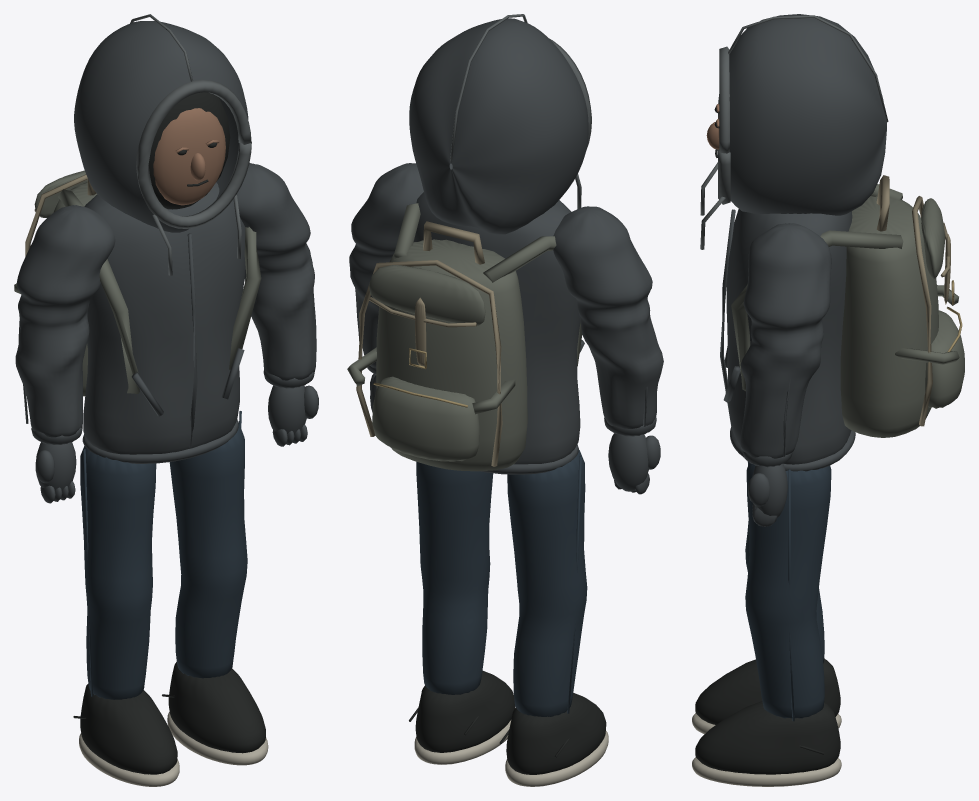
The model's file is player.glb.
The picture shows the model from 3 angles, left to right: view 1: azimuth 30°, elevation 25°; view 2: azimuth 150°, elevation 25°; view 3: azimuth 270°, elevation 25°; orthographic projection. The views are drawn at different scales.
Visible parts, largest first — view 1: Player_Mesh, Head_Mesh, LeftArm_Mesh, LeftLeg_Mesh, RightLeg_Mesh, RightArm_Mesh, Shoe.001_Mesh, Shoe_Mesh, Backpack_Mesh; view 2: Backpack_Mesh, Head_Mesh, LeftArm_Mesh, LeftLeg_Mesh, RightLeg_Mesh, Player_Mesh, Shoe_Mesh, Shoe.001_Mesh, RightArm_Mesh; view 3: Head_Mesh, Backpack_Mesh, RightArm_Mesh, RightLeg_Mesh, Player_Mesh, Shoe.001_Mesh, Shoe_Mesh, LeftLeg_Mesh.
Boxes of the visible parts, x1=… form: Player_Mesh: x1=82, y1=182, x2=245, y2=463; Head_Mesh: x1=74, y1=14, x2=251, y2=275; LeftArm_Mesh: x1=15, y1=205, x2=115, y2=503; LeftLeg_Mesh: x1=80, y1=446, x2=156, y2=699; RightLeg_Mesh: x1=169, y1=411, x2=247, y2=678; RightArm_Mesh: x1=237, y1=163, x2=318, y2=446; Shoe.001_Mesh: x1=162, y1=662, x2=268, y2=765; Shoe_Mesh: x1=73, y1=684, x2=179, y2=786; Backpack_Mesh: x1=14, y1=170, x2=261, y2=396; Backpack_Mesh: x1=347, y1=203, x2=582, y2=471; Head_Mesh: x1=409, y1=14, x2=591, y2=234; LeftArm_Mesh: x1=553, y1=206, x2=663, y2=494; LeftLeg_Mesh: x1=507, y1=449, x2=587, y2=716; RightLeg_Mesh: x1=416, y1=462, x2=493, y2=694; Player_Mesh: x1=413, y1=192, x2=584, y2=474; Shoe_Mesh: x1=499, y1=693, x2=608, y2=786; Shoe.001_Mesh: x1=409, y1=670, x2=515, y2=764; RightArm_Mesh: x1=349, y1=163, x2=423, y2=412; Head_Mesh: x1=700, y1=14, x2=888, y2=249; Backpack_Mesh: x1=731, y1=175, x2=964, y2=437; RightArm_Mesh: x1=740, y1=223, x2=831, y2=526; RightLeg_Mesh: x1=745, y1=463, x2=831, y2=721; Player_Mesh: x1=720, y1=209, x2=855, y2=471; Shoe.001_Mesh: x1=692, y1=701, x2=841, y2=786; Shoe_Mesh: x1=692, y1=658, x2=841, y2=733; LeftLeg_Mesh: x1=745, y1=461, x2=824, y2=663.
Bounding box in the file's own units: 0.7894 × 1.87 × 0.6281.
